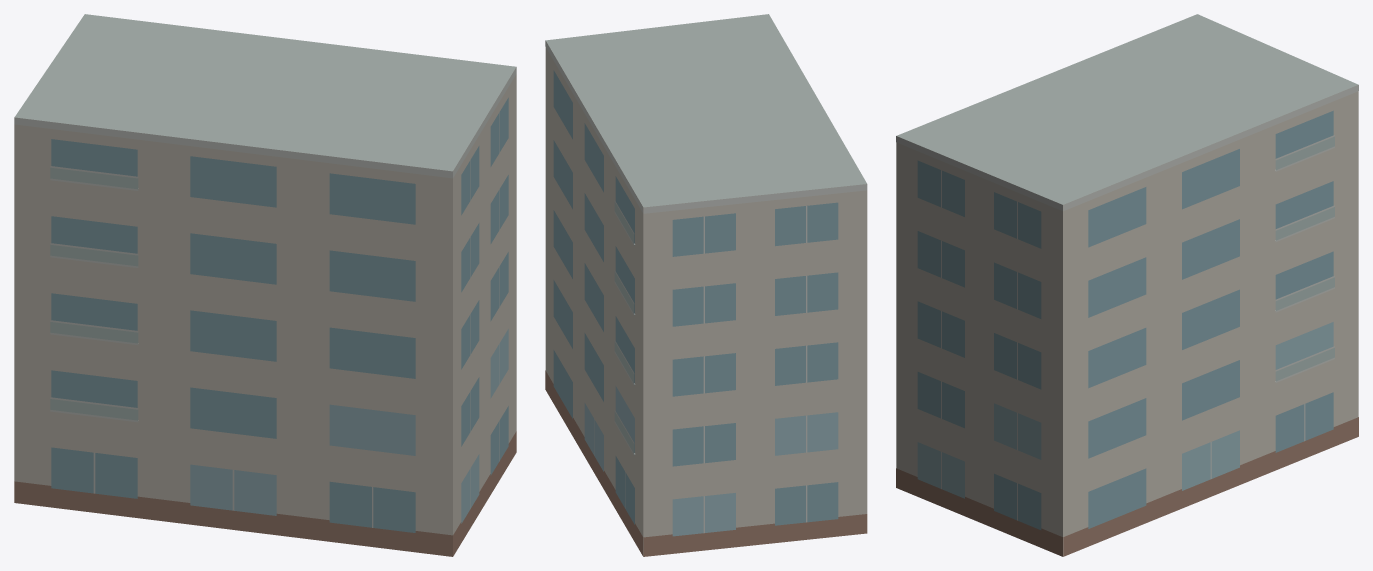
The model's file is survey-upis-32885066.glb.
3 views of the same model, side by side, from view 1: azimuth 30°, elevation 25°; view 2: azimuth 150°, elevation 25°; view 3: azimuth 270°, elevation 25° (orthographic). The views are drawn at different scales.
Parts seen in each view (by area): view 1: survey-upis-32885066.tmp; view 2: survey-upis-32885066.tmp; view 3: survey-upis-32885066.tmp.
Part boxes in pixels (<box>): survey-upis-32885066.tmp: <box>14,14,516,556</box>; survey-upis-32885066.tmp: <box>545,14,867,556</box>; survey-upis-32885066.tmp: <box>896,14,1358,556</box>.
Size of the model in its own units: 15.6 by 13.4 by 15.97.
